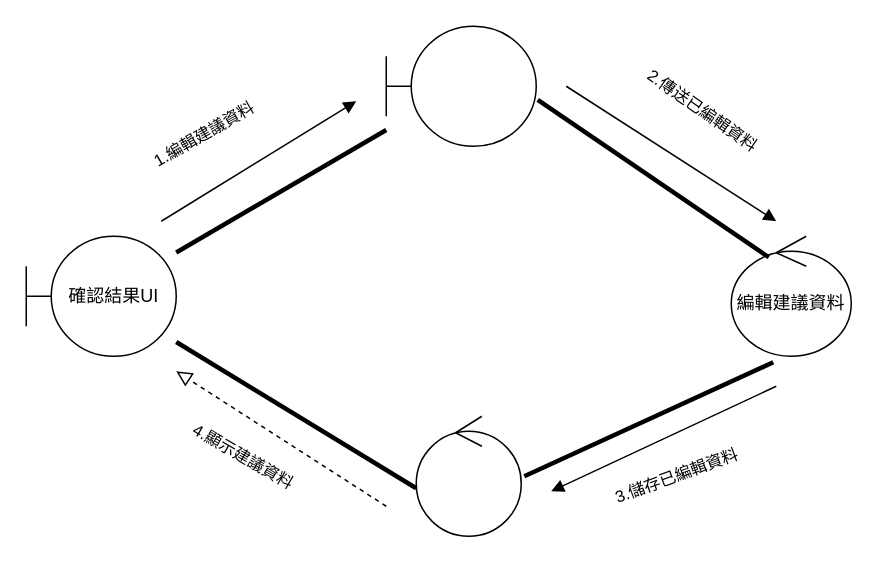
This 878x570 diagram has some shape labels left out. Here are the shapes that lost their labels. From the top down, the centre of each, then its label:
At point (460, 85): "編輯建議資料UI".
At point (468, 475): "備課資料".
